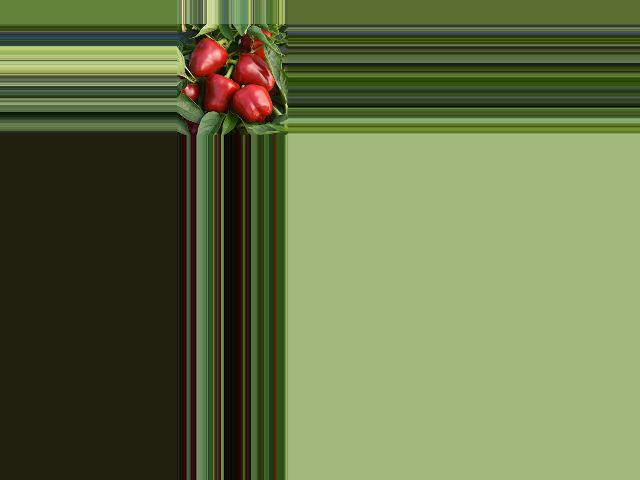bell_pepper: (223, 83, 276, 121)
